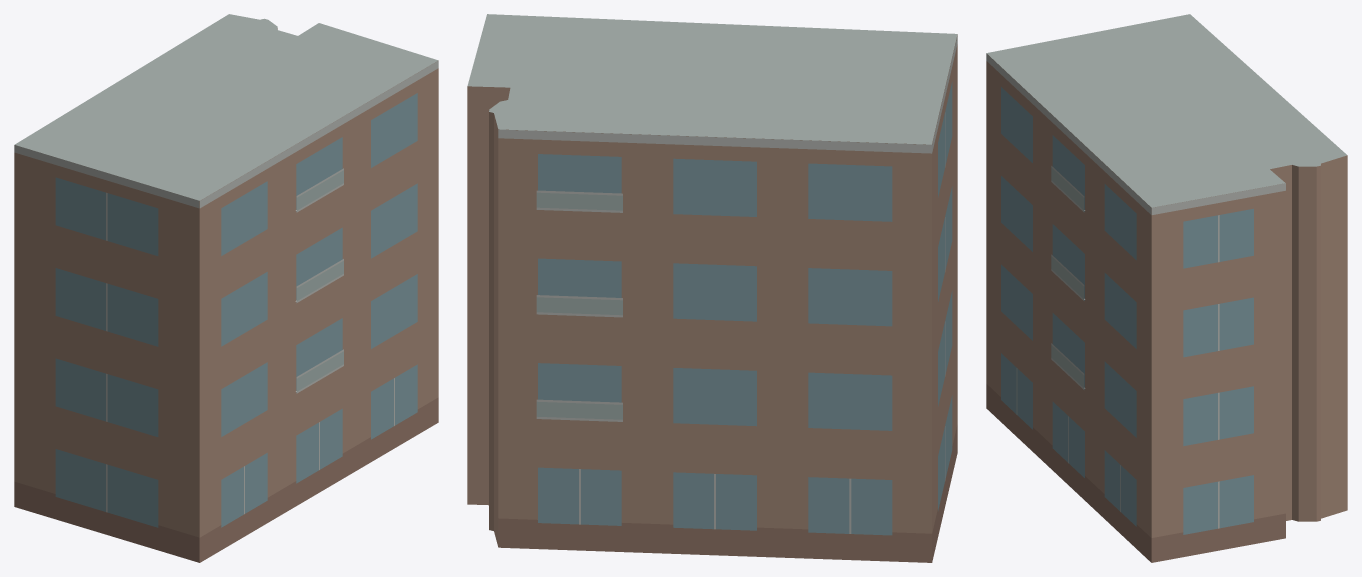
File: survey-upis-32951374.glb
3 renders of one model, left to right at view 1: azimuth 30°, elevation 25°; view 2: azimuth 150°, elevation 25°; view 3: azimuth 270°, elevation 25°, orthographic. The views are drawn at different scales.
Visible parts, largest first — view 1: survey-upis-32951374.tmp; view 2: survey-upis-32951374.tmp; view 3: survey-upis-32951374.tmp.
Part boxes in pixels (box(x1,y1,x2,y2)): survey-upis-32951374.tmp: box(14, 14, 438, 562); survey-upis-32951374.tmp: box(467, 14, 957, 562); survey-upis-32951374.tmp: box(986, 14, 1347, 562).
Size of the model in its own units: 13.46 by 11.5 by 10.61.
